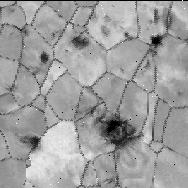good_void: (98, 114, 146, 150), (68, 29, 93, 54), (100, 14, 123, 37), (27, 131, 43, 150), (37, 48, 51, 66), (150, 32, 165, 48), (149, 7, 159, 26), (91, 103, 99, 113), (123, 30, 130, 37), (119, 66, 125, 71), (65, 46, 70, 52), (52, 32, 57, 37)
